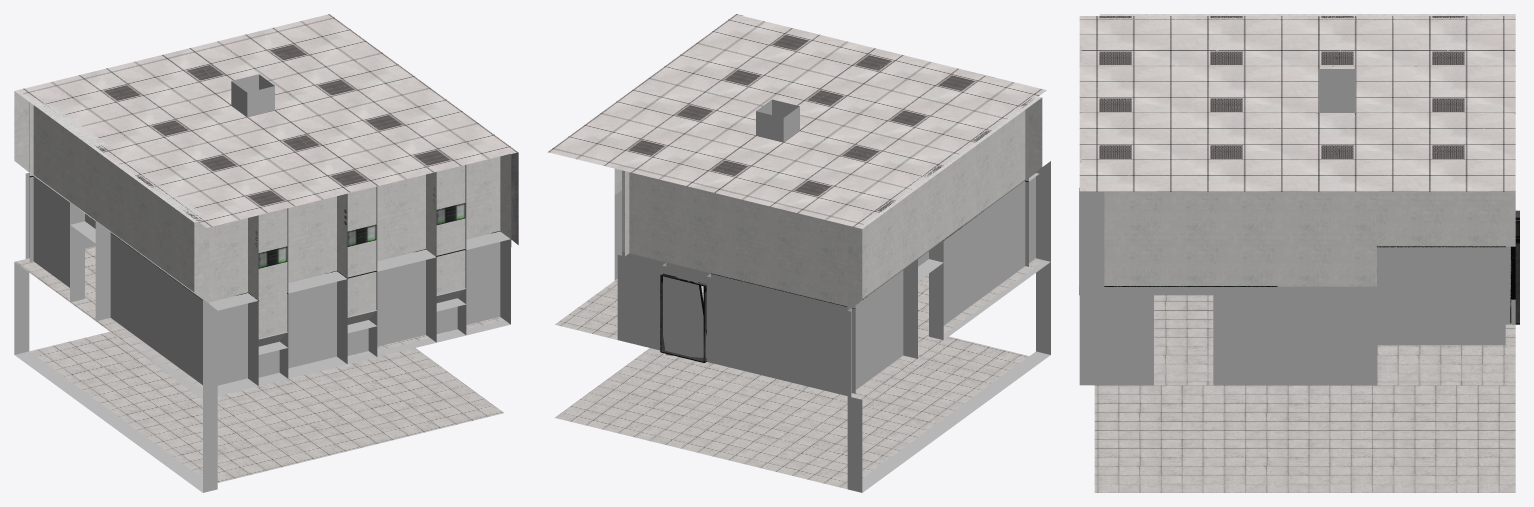
Rendered from room1start_sirenmesh.fbx.
The picture shows the model from 3 angles, left to right: view 1: azimuth 30°, elevation 25°; view 2: azimuth 150°, elevation 25°; view 3: azimuth 270°, elevation 25°; orthographic projection. The views are drawn at different scales.
Visible parts, largest first — view 1: ceiling_mesh, whitewall_mesh, white_mesh, tilefloor_mesh, metalpanels2_mesh, concretefloor_mesh, dirtymetal_mesh; view 2: ceiling_mesh, whitewall_mesh, tilefloor_mesh, white_mesh, concretefloor_mesh, door01_mesh; view 3: ceiling_mesh, tilefloor_mesh, whitewall_mesh, white_mesh, concretefloor_mesh, door01_mesh.
Part boxes in pixels (x1,y1,x2,y2): ceiling_mesh: [18, 14, 517, 227]; whitewall_mesh: [14, 165, 511, 492]; white_mesh: [14, 90, 511, 338]; tilefloor_mesh: [14, 246, 503, 482]; metalpanels2_mesh: [29, 175, 499, 301]; concretefloor_mesh: [231, 74, 274, 116]; dirtymetal_mesh: [255, 152, 518, 246]; ceiling_mesh: [547, 14, 1046, 227]; whitewall_mesh: [614, 27, 1050, 492]; tilefloor_mesh: [555, 259, 1043, 489]; white_mesh: [614, 95, 1042, 310]; concretefloor_mesh: [756, 99, 799, 142]; door01_mesh: [660, 273, 706, 362]; ceiling_mesh: [1079, 16, 1515, 191]; tilefloor_mesh: [1094, 295, 1515, 492]; whitewall_mesh: [1079, 45, 1515, 385]; white_mesh: [1079, 14, 1515, 286]; concretefloor_mesh: [1318, 69, 1355, 112]; door01_mesh: [1510, 210, 1519, 324].
Size of the model in its own units: 1360 by 1189 by 1424.
